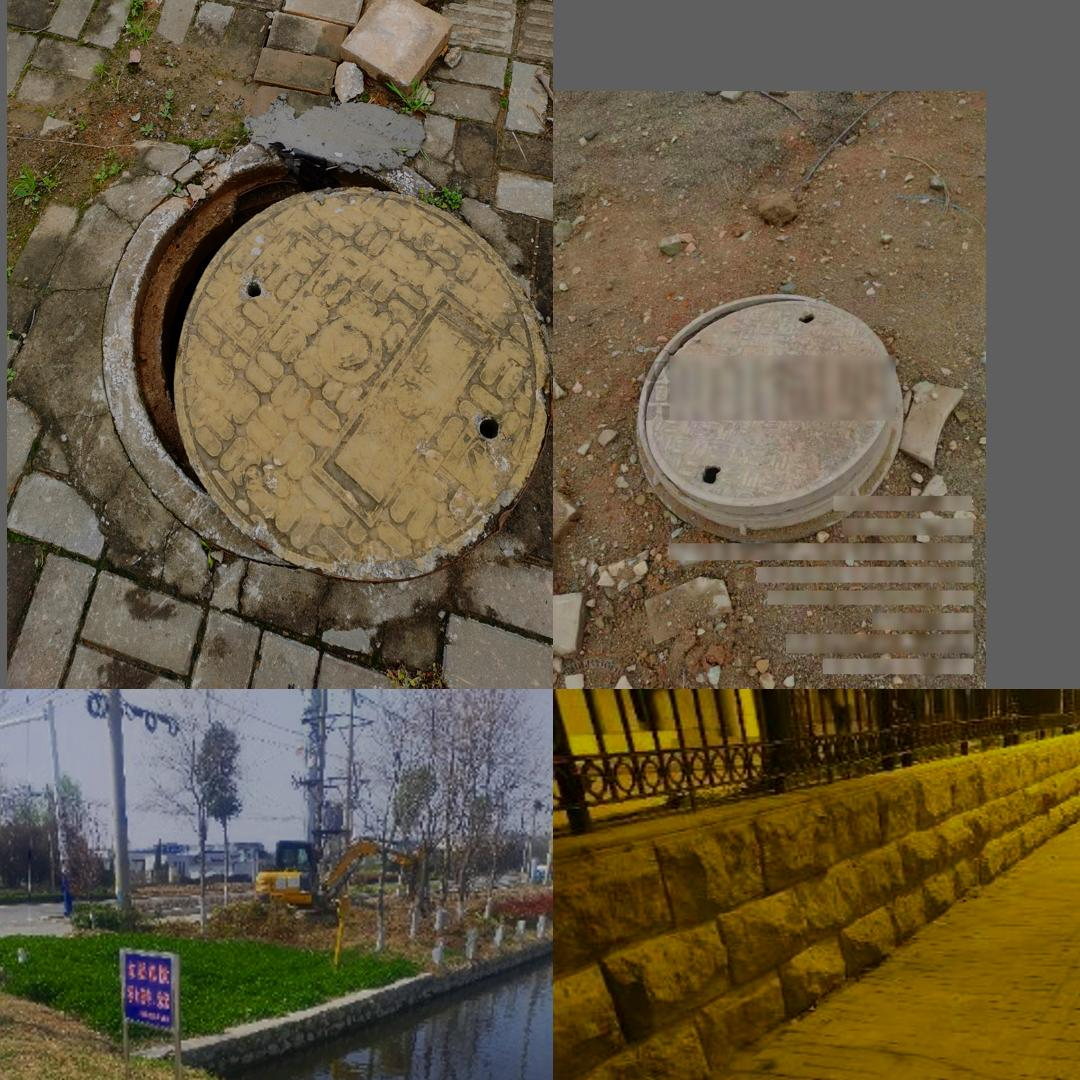uncovered: (108, 157, 491, 537), (634, 293, 902, 541)
